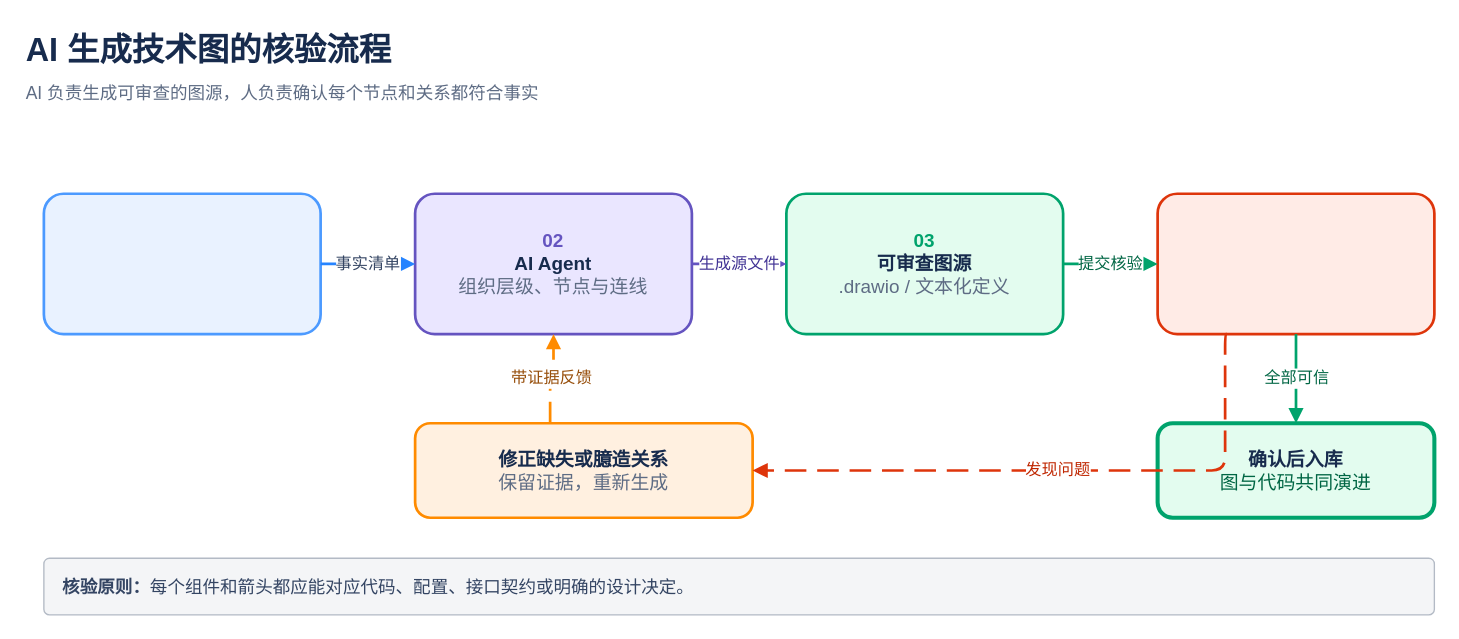
The diagram is 1459 pixels wide and 639 high, and some of its shapes have lost their labels. Each missing label, with the centre of its shape:
01 文档作者 提供事实、受众与边界: the point at 181,263
04 技术评审 逐项核对节点与关系: the point at 1295,263
